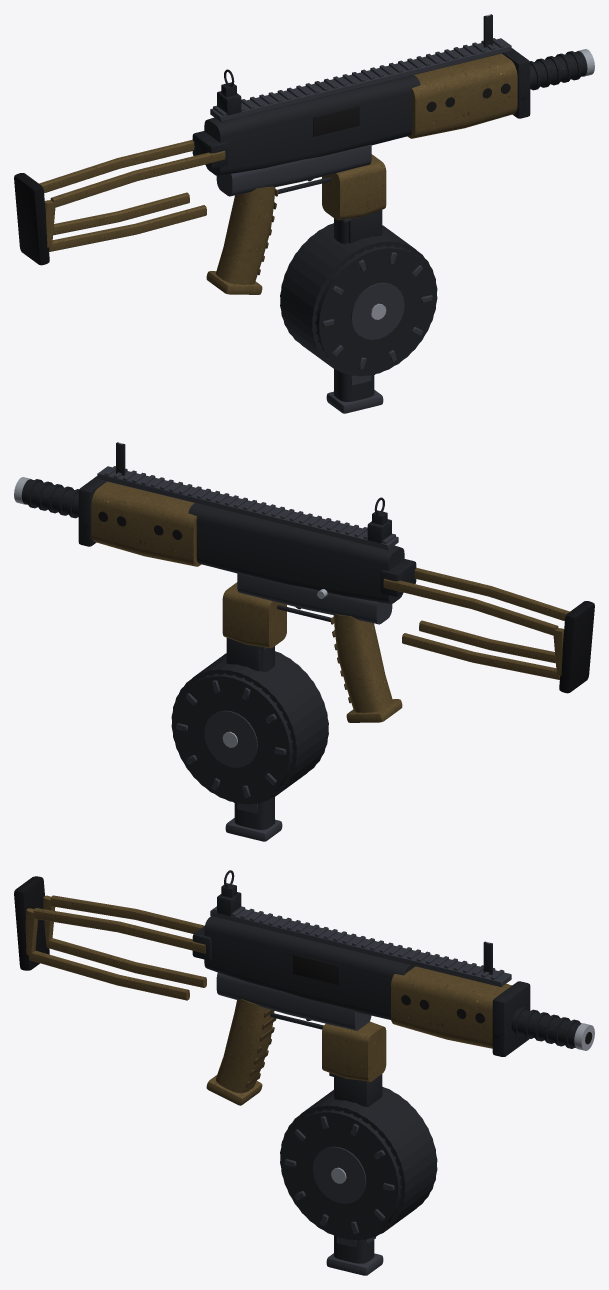
3 renders of one model, top to bottom at view 1: azimuth 30°, elevation 25°; view 2: azimuth 150°, elevation 25°; view 3: azimuth 330°, elevation 25°, orthographic.
Parts seen in each view (by area): view 1: vx9_body, mag_drum, vx9_stock, mag_ext, iron_sights; view 2: vx9_body, mag_drum, vx9_stock, mag_ext, iron_sights; view 3: vx9_body, mag_drum, vx9_stock, mag_ext, iron_sights.
Boxes of the visible parts, x1,y1,x2,y2 form: vx9_body: [204, 38, 594, 294]; mag_drum: [280, 210, 437, 376]; vx9_stock: [14, 131, 228, 265]; mag_ext: [326, 222, 383, 413]; iron_sights: [217, 14, 492, 115]; vx9_body: [14, 466, 404, 722]; mag_drum: [171, 638, 328, 804]; vx9_stock: [380, 559, 594, 693]; mag_ext: [225, 649, 282, 841]; iron_sights: [116, 442, 391, 543]; vx9_body: [204, 906, 594, 1105]; mag_drum: [280, 1072, 437, 1240]; vx9_stock: [14, 876, 211, 1000]; mag_ext: [326, 1077, 383, 1275]; iron_sights: [217, 870, 492, 974].
Size of the model in its own units: 0.611 by 0.3761 by 0.076.
8 materials, 3 textured.
